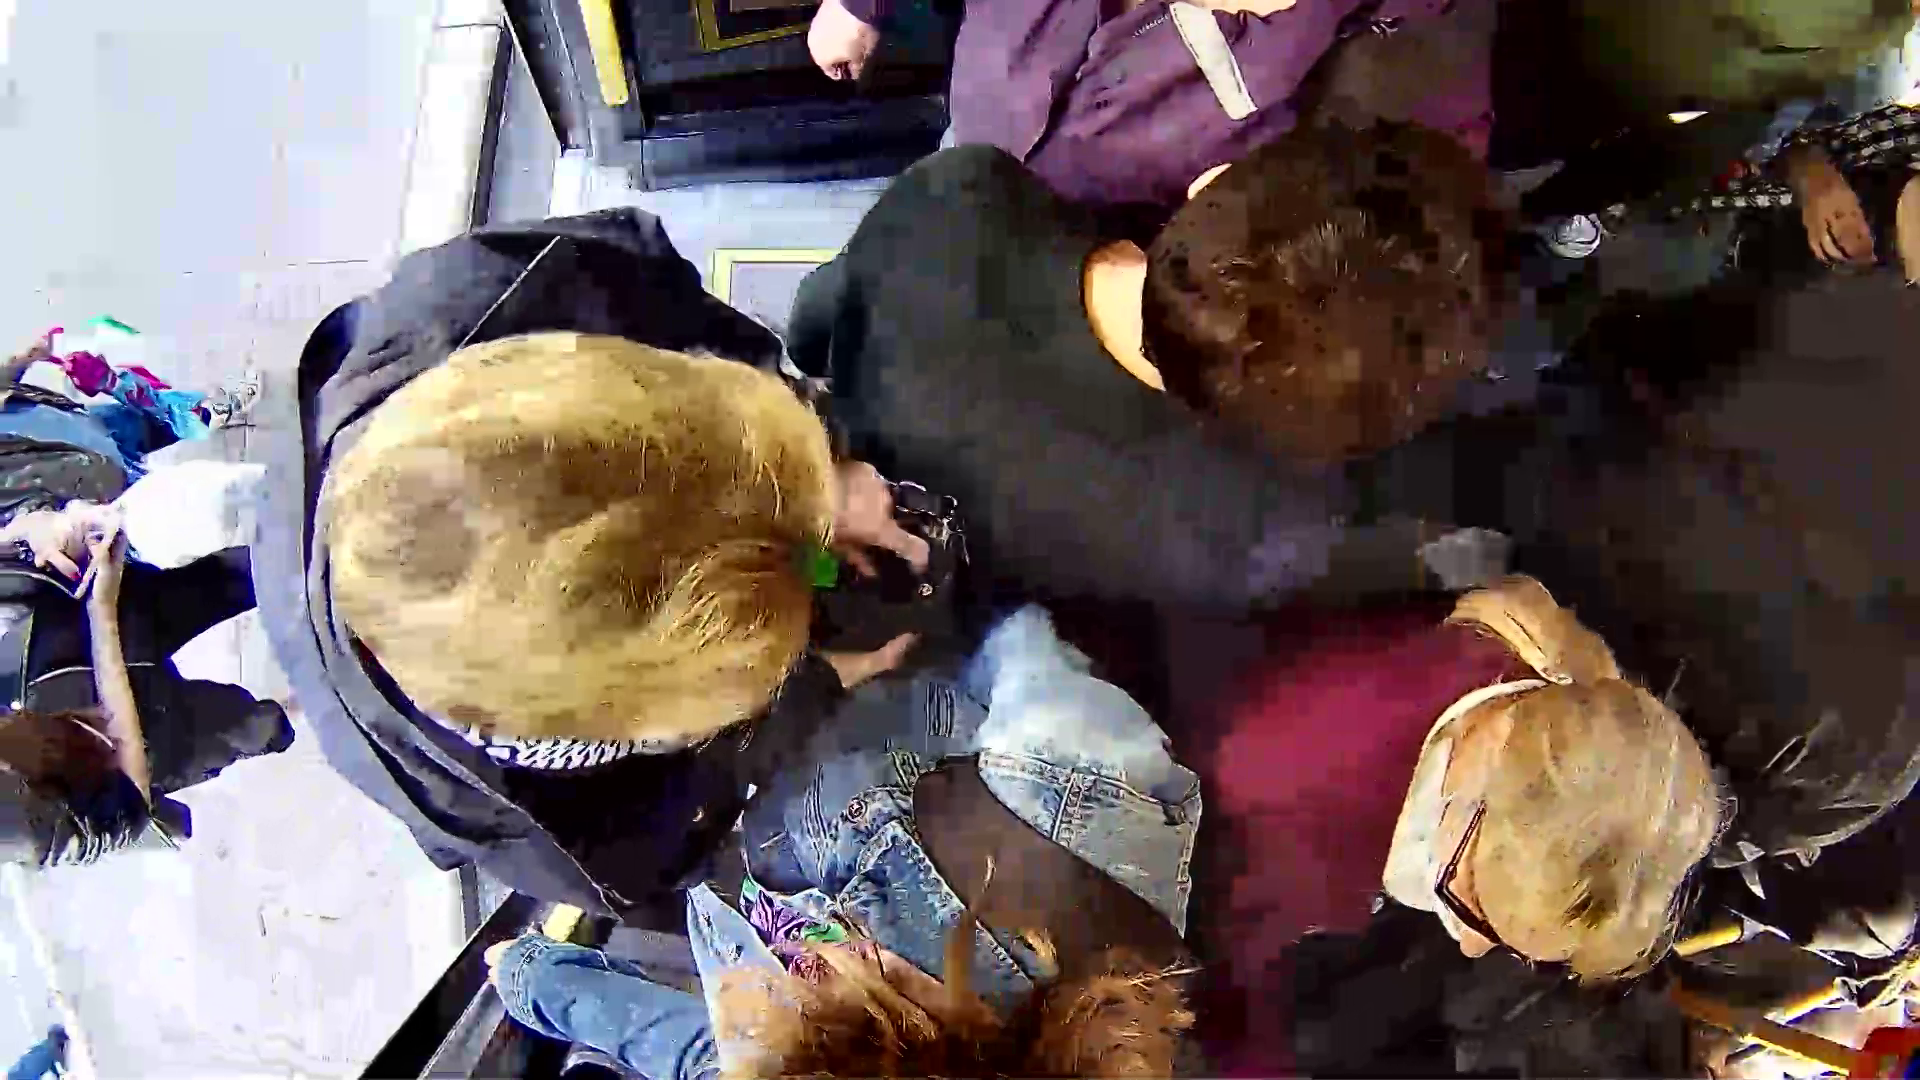person: (234, 260, 883, 813), (827, 131, 1418, 617), (1165, 599, 1723, 950)
